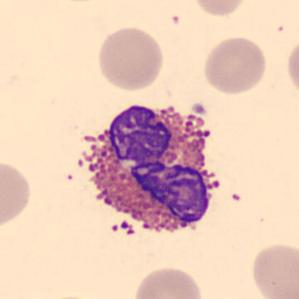Eosinophil: (68, 92, 228, 250)
RBC: (94, 25, 166, 92), (201, 34, 269, 95), (248, 240, 298, 299), (130, 263, 206, 299), (0, 156, 34, 232), (190, 0, 249, 18), (284, 35, 299, 100)
